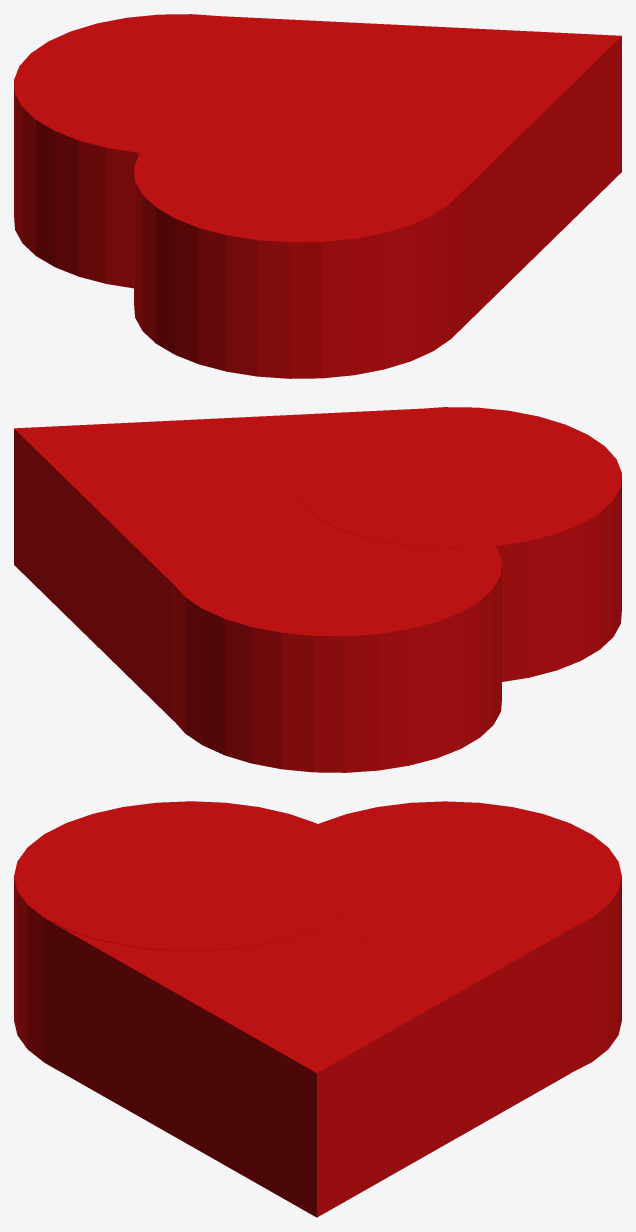
File: heart.fbx
The picture shows the model from 3 angles, top to bottom: view 1: azimuth 30°, elevation 25°; view 2: azimuth 150°, elevation 25°; view 3: azimuth 270°, elevation 25°; orthographic projection. The views are drawn at different scales.
Parts seen in each view (by area): view 1: Cube; view 2: Cube; view 3: Cube.
Part boxes in pixels (x1=…): Cube: x1=14, y1=14, x2=621, y2=378; Cube: x1=14, y1=407, x2=621, y2=772; Cube: x1=14, y1=801, x2=621, y2=1217.
Bounding box in the file's own units: 363 × 90.32 × 344.
